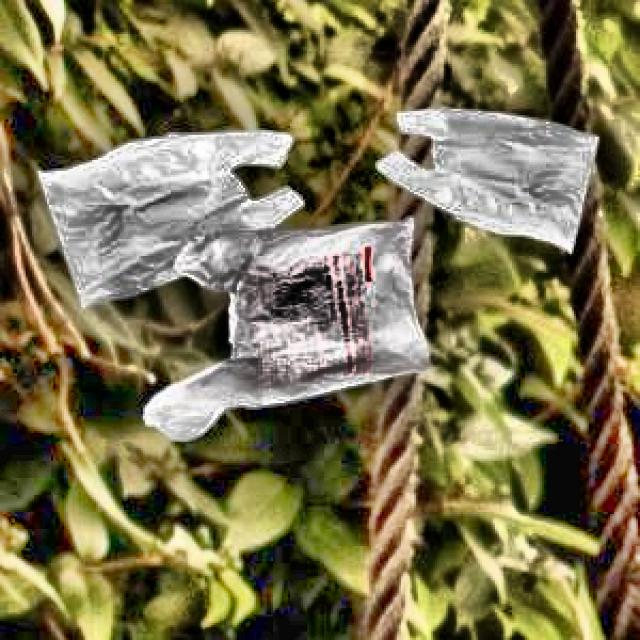Plastic: (132, 220, 440, 448), (36, 110, 313, 316), (343, 82, 598, 253)
